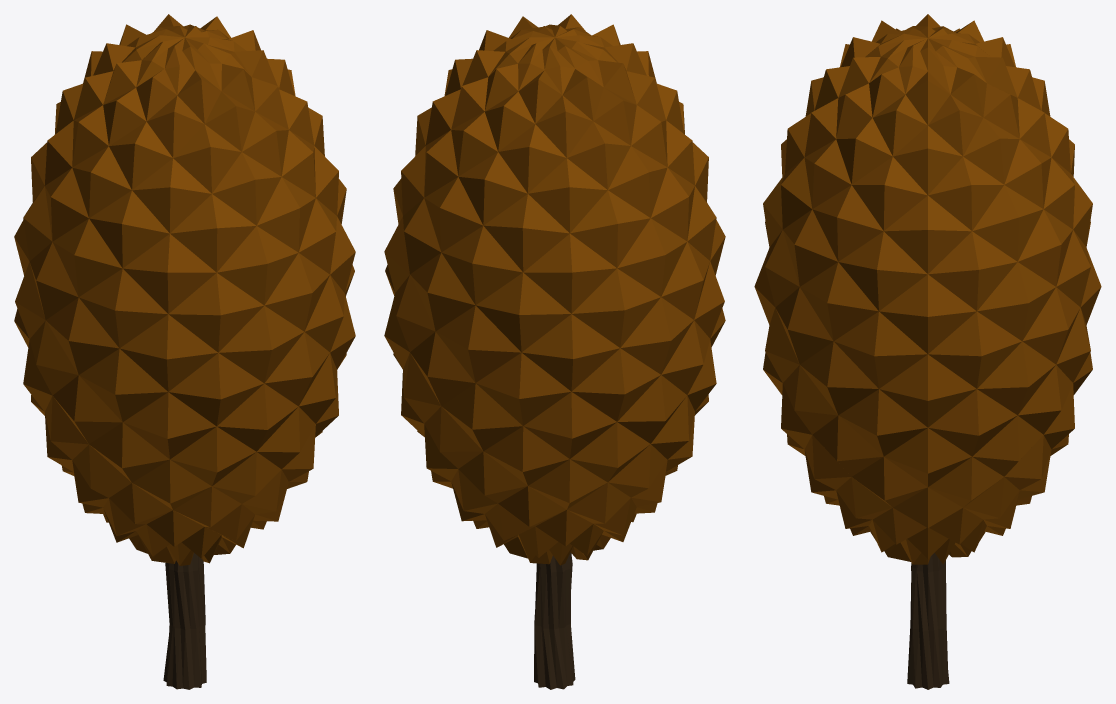
Rendered from TallSkinnyTree_Orange.fbx.
The picture shows the model from 3 angles, left to right: view 1: azimuth 30°, elevation 25°; view 2: azimuth 150°, elevation 25°; view 3: azimuth 270°, elevation 25°; orthographic projection.
Parts seen in each view (by area): view 1: pSphere2, pCylinder2; view 2: pSphere2, pCylinder2; view 3: pSphere2, pCylinder2.
Boxes of the visible parts, x1,y1,x2,y2 form: pSphere2: [14, 14, 355, 565]; pCylinder2: [163, 553, 206, 689]; pSphere2: [384, 14, 725, 565]; pCylinder2: [534, 552, 575, 689]; pSphere2: [754, 14, 1101, 564]; pCylinder2: [907, 553, 949, 689].
Bounding box in the file's own units: 11.59 × 24.03 × 11.73.
